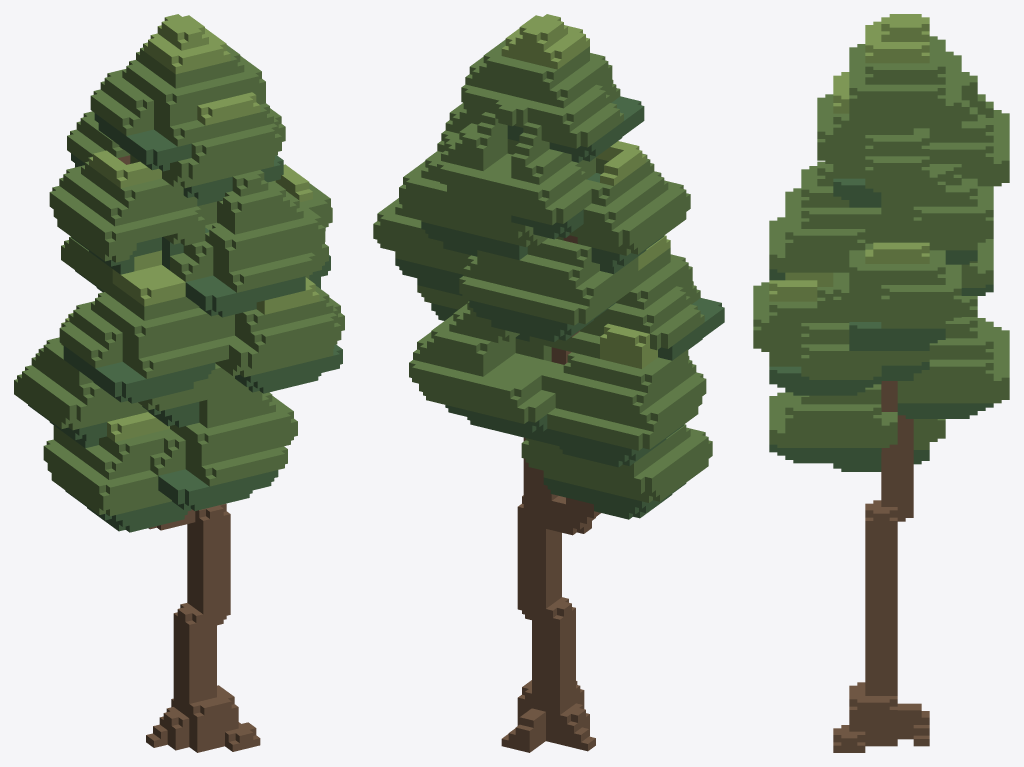
Rendered from hearthvale_tree_riverside.obj.
3 renders of one model, left to right at view 1: azimuth 30°, elevation 25°; view 2: azimuth 150°, elevation 25°; view 3: azimuth 270°, elevation 25°, orthographic. The views are drawn at different scales.
Parts seen in each view (by area): view 1: palette_2, palette_3, palette_1, palette_4; view 2: palette_2, palette_3, palette_1, palette_4; view 3: palette_2, palette_1, palette_3, palette_4.
Boxes of the visible parts, <box> form: palette_2: <box>14,42,344,516</box>; palette_3: <box>28,113,342,532</box>; palette_1: <box>118,155,260,752</box>; palette_4: <box>61,14,319,441</box>; palette_2: <box>373,39,712,502</box>; palette_3: <box>395,96,724,519</box>; palette_1: <box>501,235,600,752</box>; palette_4: <box>501,14,670,368</box>; palette_2: <box>753,36,1009,449</box>; palette_1: <box>833,381,929,752</box>; palette_3: <box>769,178,993,471</box>; palette_4: <box>769,14,929,301</box>.
Bounding box in the file's own units: 2.5 × 6.12 × 2.
